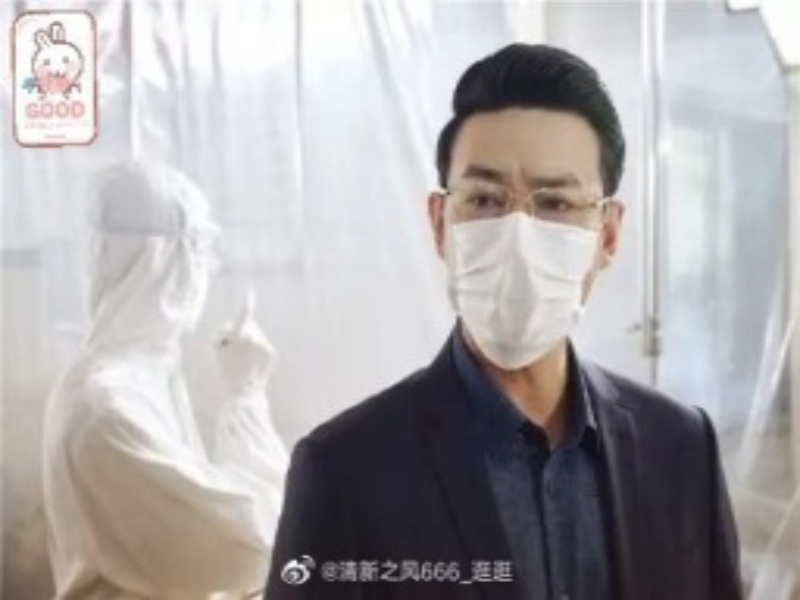ManaoArotava: (407, 57, 638, 383)
